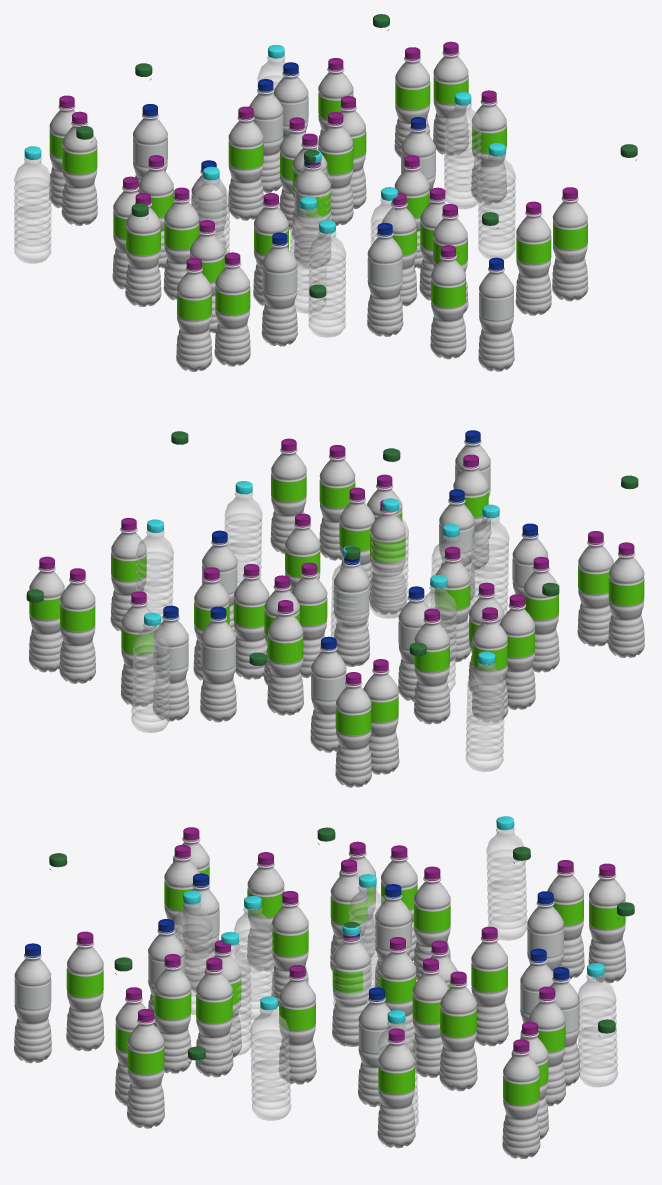
3 renders of one model, top to bottom at view 1: azimuth 30°, elevation 25°; view 2: azimuth 150°, elevation 25°; view 3: azimuth 270°, elevation 25°, orthographic. The views are drawn at different scales.
Parts seen in each view (by area): view 1: bottle.001 (×28), b2 (×9), bottle (×9), label.001 (×13), label (×5); view 2: bottle.001 (×26), b2 (×9), bottle (×10), label.001 (×21), label (×4); view 3: bottle.001 (×27), b2 (×9), label.001 (×18), bottle (×8), label (×5).
Boxes of the visible parts, x1,y1,x2,y2 form: bottle.001 (×28): [49, 51, 588, 371]; b2 (×9): [14, 45, 515, 337]; bottle (×9): [133, 72, 514, 371]; label.001 (×13): [62, 76, 587, 320]; label (×5): [133, 139, 513, 320]; bottle.001 (×26): [29, 448, 644, 787]; b2 (×9): [131, 481, 509, 771]; bottle (×10): [152, 440, 547, 752]; label.001 (×21): [29, 474, 644, 735]; label (×4): [153, 525, 474, 700]; bottle.001 (×27): [66, 837, 626, 1159]; b2 (×9): [174, 816, 617, 1127]; label.001 (×18): [66, 889, 625, 1105]; bottle (×8): [14, 884, 579, 1106]; label (×5): [14, 910, 563, 1053].
Bounding box in the file's own units: 1.49 × 0.3263 × 1.62.
